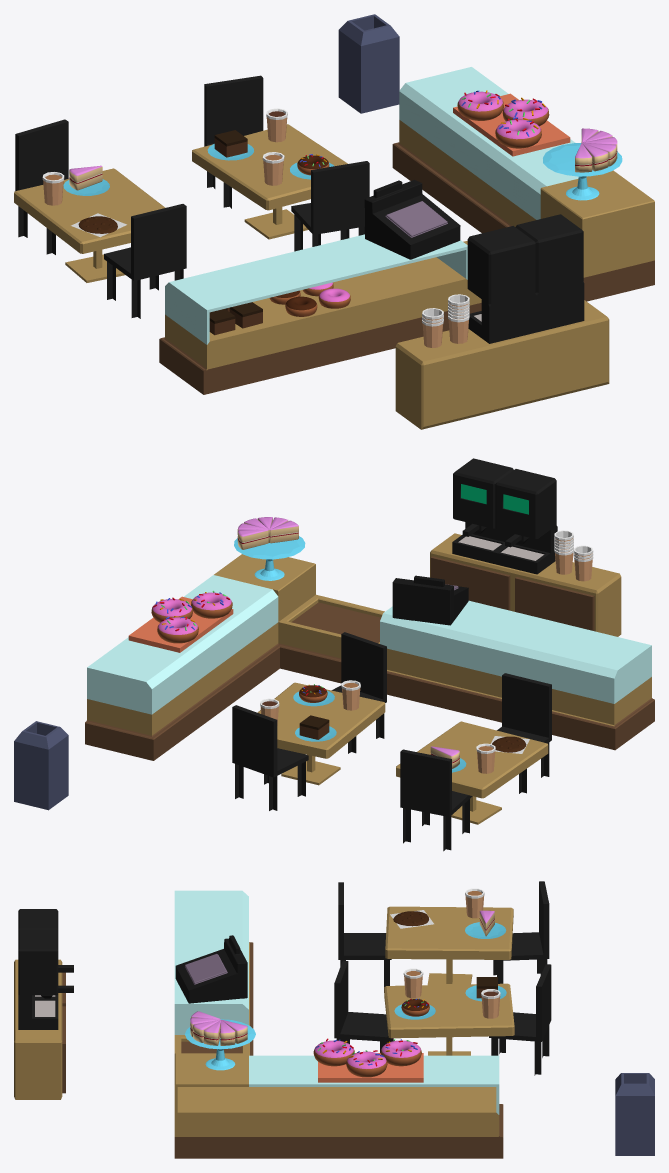
Rendered from Bakery tile 3.fbx.
3 views of the same model, one above another, from view 1: azimuth 30°, elevation 25°; view 2: azimuth 150°, elevation 25°; view 3: azimuth 270°, elevation 25° (orthographic). The views are drawn at different scales.
Visible parts, largest first — view 1: Cube.228, Cube.230, Cube.233, Cube.007, Cube.227, Cube.008, Cube.234, Cube, Cube.001, Cube.002, Cube.015, Cube.016 (+11 smaller); view 2: Cube.228, Cube.230, Cube.233, Cube.227, Cube.007, Cube.008, Cube.234, Cube.016, Cube.015, Cube.001, Cube, Cube.002 (+6 smaller); view 3: Cube.228, Cube.007, Cube.227, Cube.230, Cube.008, Cube, Cube.234, Cube.015, Cube.002, Cube.016, Cube.001, Cube.229 (+10 smaller).
Part boxes in pixels (x1,y1,x2,y2): Cube.228: [159, 67, 654, 394]; Cube.230: [395, 300, 609, 429]; Cube.233: [467, 226, 536, 343]; Cube.007: [14, 168, 165, 282]; Cube.227: [192, 124, 347, 239]; Cube.008: [515, 214, 584, 332]; Cube.234: [338, 14, 399, 113]; Cube: [364, 180, 460, 259]; Cube.001: [104, 204, 186, 318]; Cube.002: [291, 161, 369, 251]; Cube.015: [204, 75, 263, 208]; Cube.016: [15, 119, 68, 254]; Cube.228: [85, 554, 654, 760]; Cube.230: [430, 533, 621, 636]; Cube.233: [494, 469, 557, 574]; Cube.227: [257, 682, 385, 785]; Cube.007: [396, 721, 548, 824]; Cube.008: [452, 458, 513, 563]; Cube.234: [14, 721, 68, 810]; Cube.016: [400, 749, 472, 851]; Cube.015: [232, 705, 308, 810]; Cube.001: [497, 673, 551, 793]; Cube: [392, 575, 468, 625]; Cube.002: [331, 632, 386, 753]; Cube.228: [174, 890, 503, 1158]; Cube.007: [385, 906, 513, 985]; Cube.227: [384, 983, 514, 1055]; Cube.230: [14, 959, 65, 1099]; Cube.008: [18, 929, 73, 1029]; Cube: [175, 935, 247, 1003]; Cube.234: [615, 1073, 654, 1155]; Cube.015: [489, 964, 551, 1075]; Cube.002: [334, 960, 393, 1052]; Cube.016: [493, 881, 549, 983]; Cube.001: [338, 882, 391, 992]; Cube.229: [318, 1053, 423, 1082].
Size of the model in its own units: 625 by 209 by 864.
